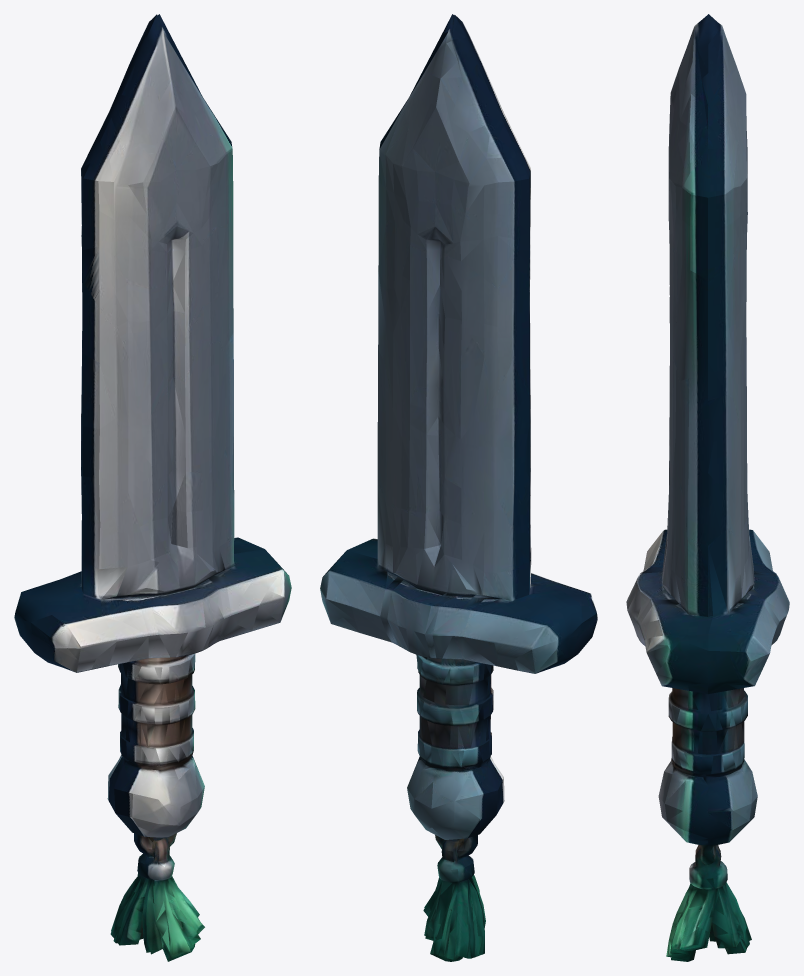
File: w_guard.glb
3 views of the same model, side by side, from view 1: azimuth 30°, elevation 25°; view 2: azimuth 150°, elevation 25°; view 3: azimuth 270°, elevation 25° (orthographic).
Parts seen in each view (by area): view 1: Weapon; view 2: Weapon; view 3: Weapon.
Part boxes in pixels (<box>): Weapon: <box>14,14,291,961</box>; Weapon: <box>320,14,597,961</box>; Weapon: <box>626,14,789,961</box>.
Size of the model in its own units: 0.2684 by 0.9813 by 0.1534.
Materials: 1 (1 with a texture image).
